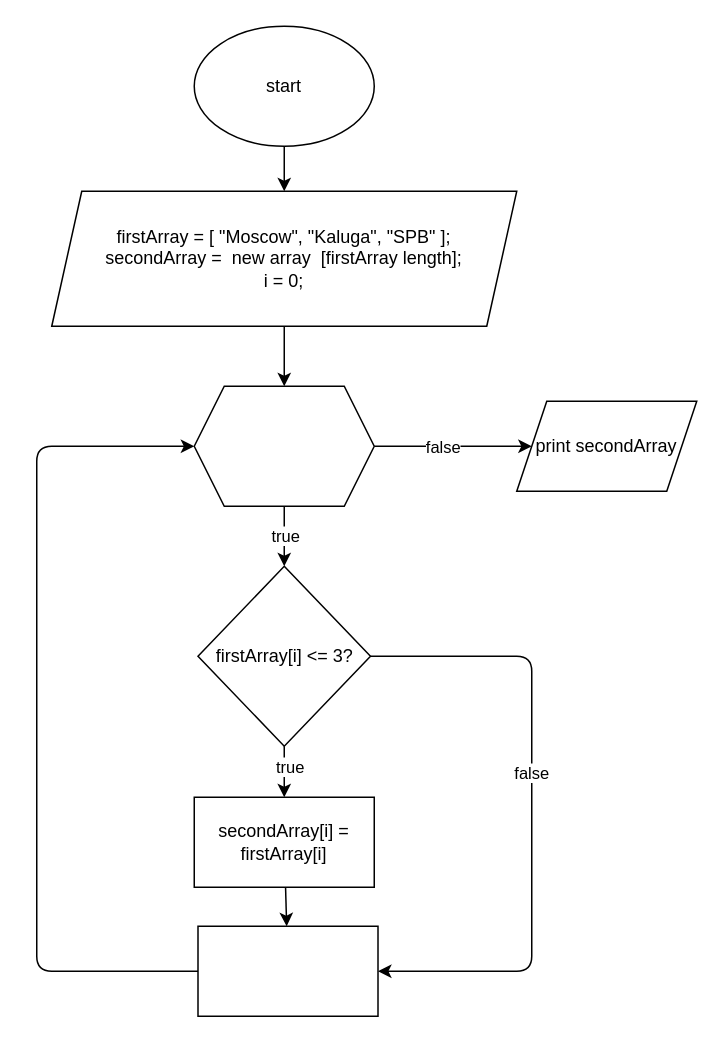
This 723x1043 diagram has some shape labels left out. Here are the shapes that lost their labels. From the top down, the centre of each, then its label:
(x=283, y=445): i;i < firstArray.length
(x=287, y=970): i = i +1;
